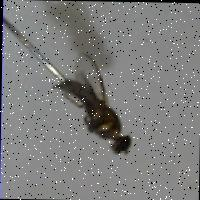Oriental-fruit-fly: (43, 43, 152, 167)
